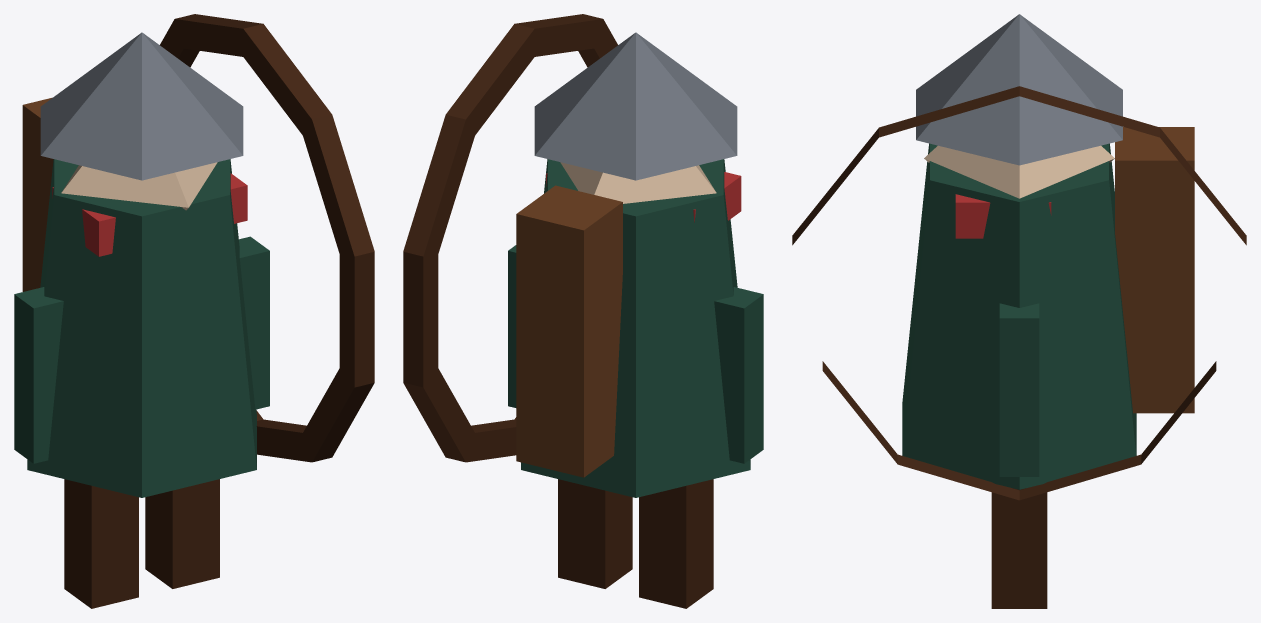
Rendered from soldier_bow.glb.
3 renders of one model, left to right at view 1: azimuth 30°, elevation 25°; view 2: azimuth 150°, elevation 25°; view 3: azimuth 270°, elevation 25°, orthographic. The views are drawn at different scales.
Visible parts, largest first — view 1: soldier_bow; view 2: soldier_bow; view 3: soldier_bow.
Part boxes in pixels (<box>): soldier_bow: <box>14,14,374,608</box>; soldier_bow: <box>403,14,763,608</box>; soldier_bow: <box>792,14,1246,608</box>.
Size of the model in its own units: 0.355 by 0.78 by 0.5706.
